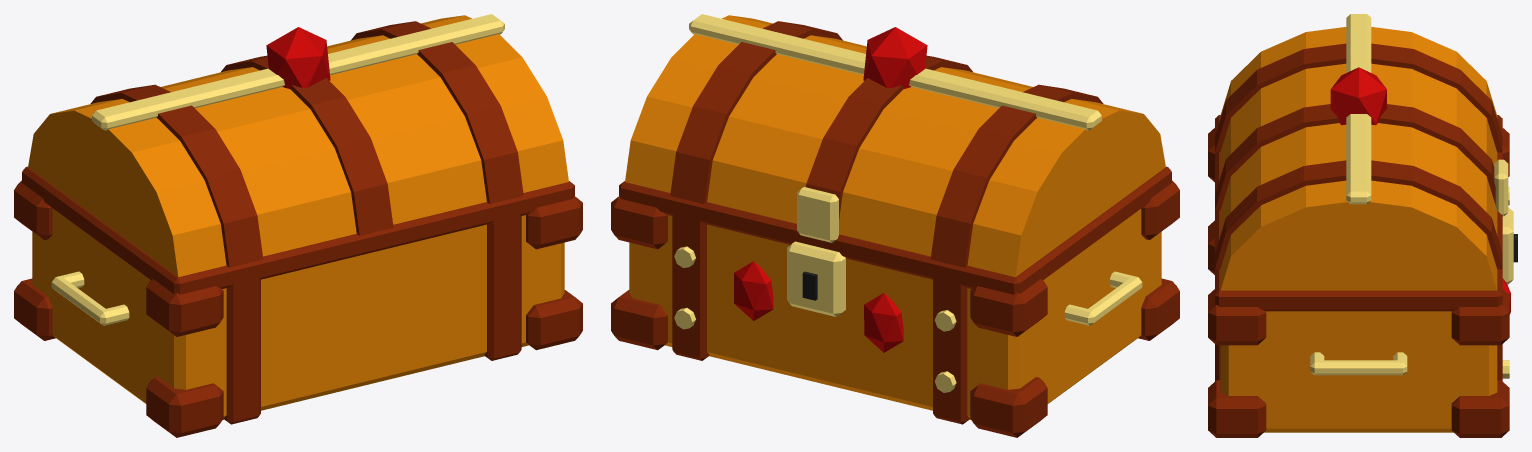
Rendered from chest_legendary.fbx.
The picture shows the model from 3 angles, left to right: view 1: azimuth 30°, elevation 25°; view 2: azimuth 150°, elevation 25°; view 3: azimuth 270°, elevation 25°; orthographic projection. The views are drawn at different scales.
Parts seen in each view (by area): view 1: Lid, Base; view 2: Lid, Base; view 3: Lid, Base.
Part boxes in pixels (box(x1,y1,x2,y2)): Lid: box(28, 14, 568, 277); Base: box(14, 166, 582, 437); Lid: box(625, 14, 1165, 277); Base: box(611, 166, 1179, 437); Lid: box(1215, 14, 1508, 290); Base: box(1208, 115, 1517, 437).
Bounding box in the file's own units: 4.1 × 2.7 × 2.69.
